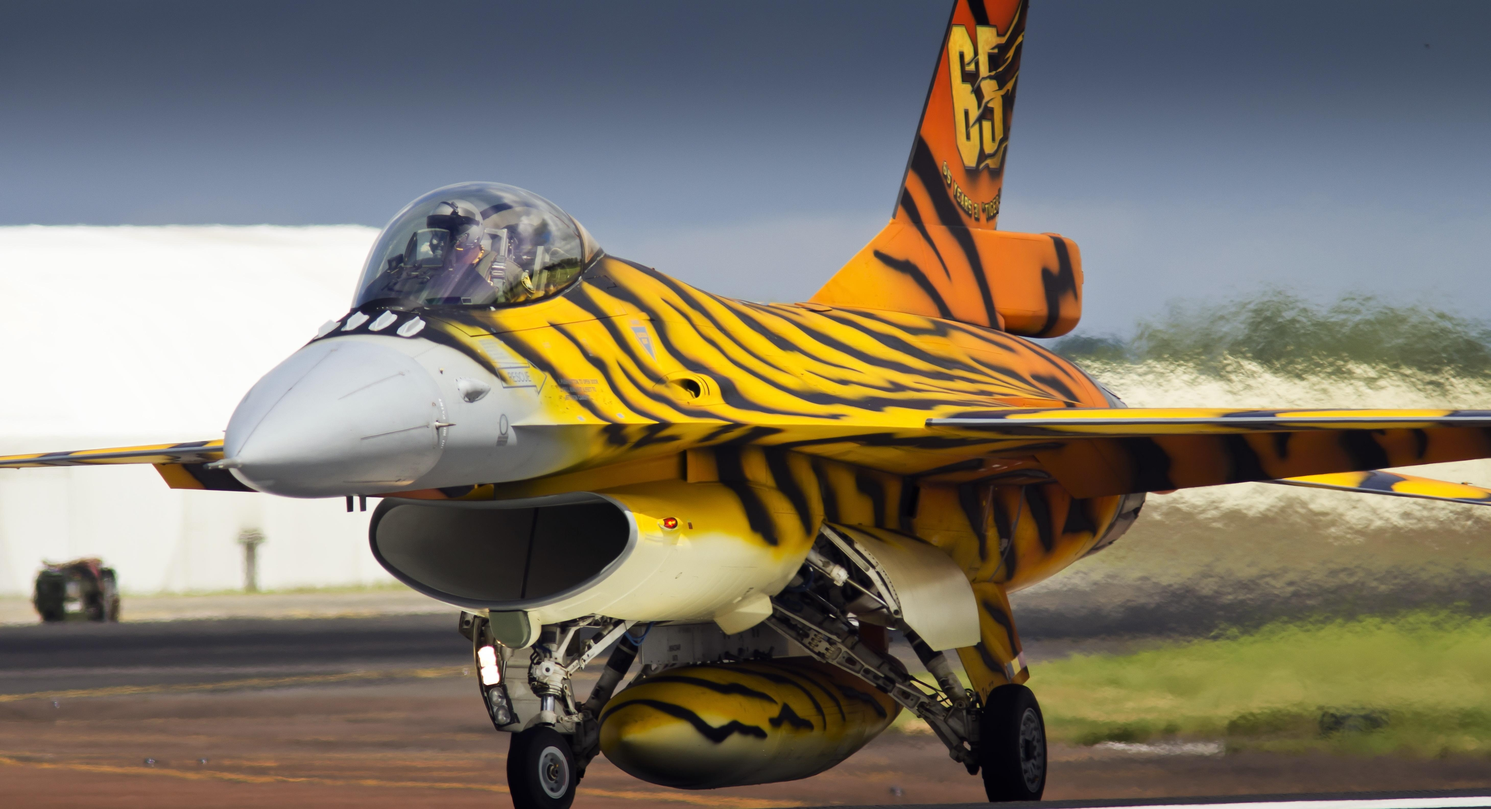aircraft: (5, 1, 1486, 807)
